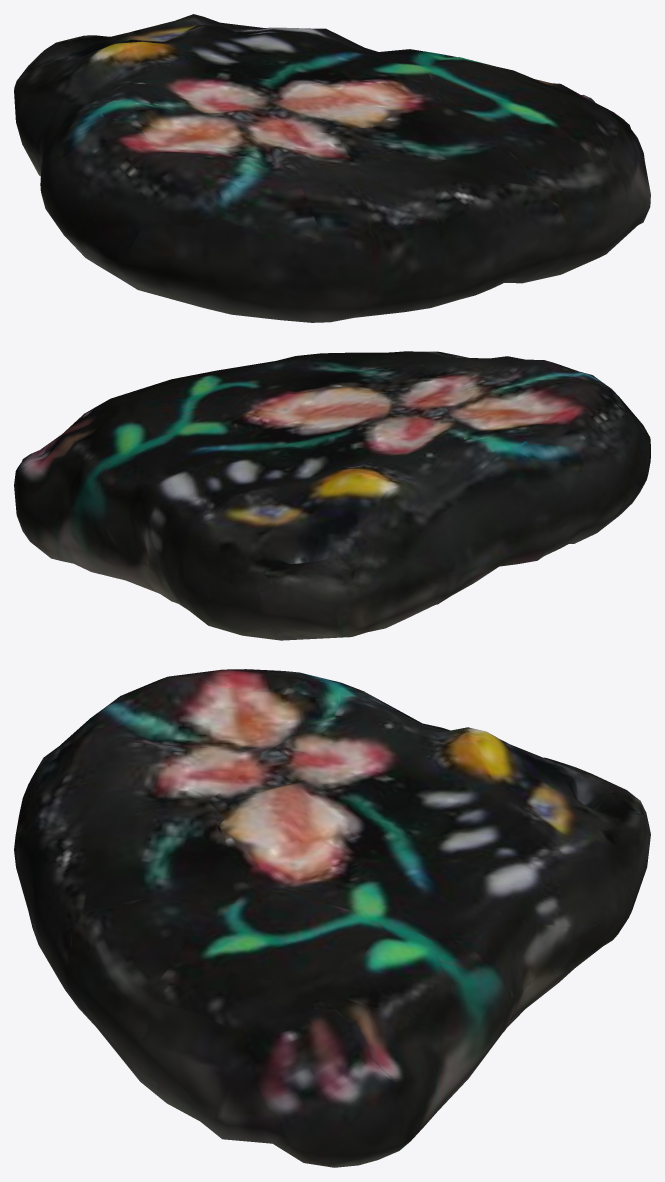
File: hall.glb
The picture shows the model from 3 angles, top to bottom: view 1: azimuth 30°, elevation 25°; view 2: azimuth 150°, elevation 25°; view 3: azimuth 270°, elevation 25°; orthographic projection. The views are drawn at different scales.
Bounding box in the file's own units: 0.4497 × 0.1606 × 0.3895.
1 material, 1 textured.
